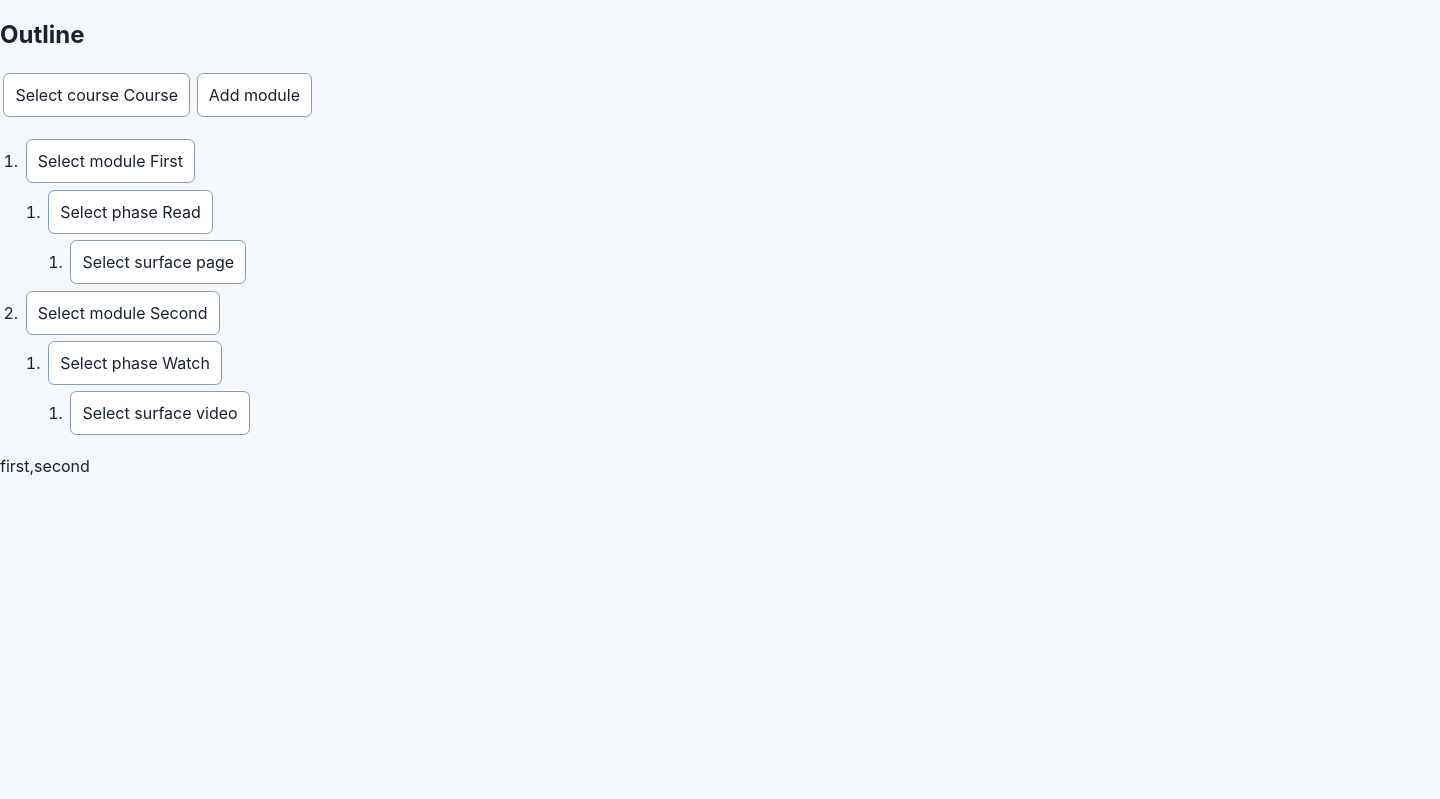
Test: Outline › opens a valid-start wizard that creates one module, phase, and surface locally
Click the button "Add module".
click(254, 95)  # box [197,73,312,117]
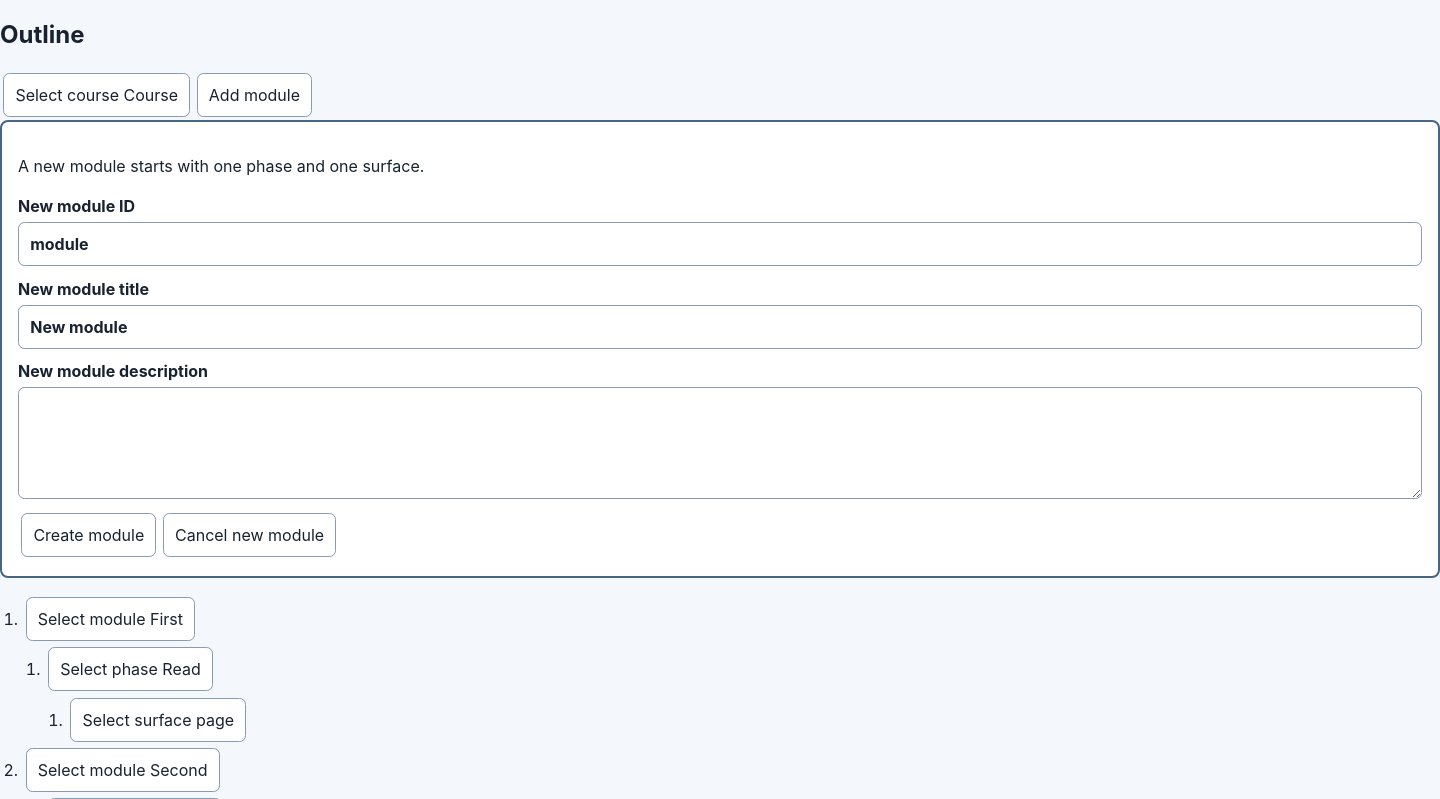
Check: the dialog "new module" is shown, box [0,120,1439,578]
Replace the text in the field labelled "New module ID" with "third" at (720, 244), box [18,222,1422,266]
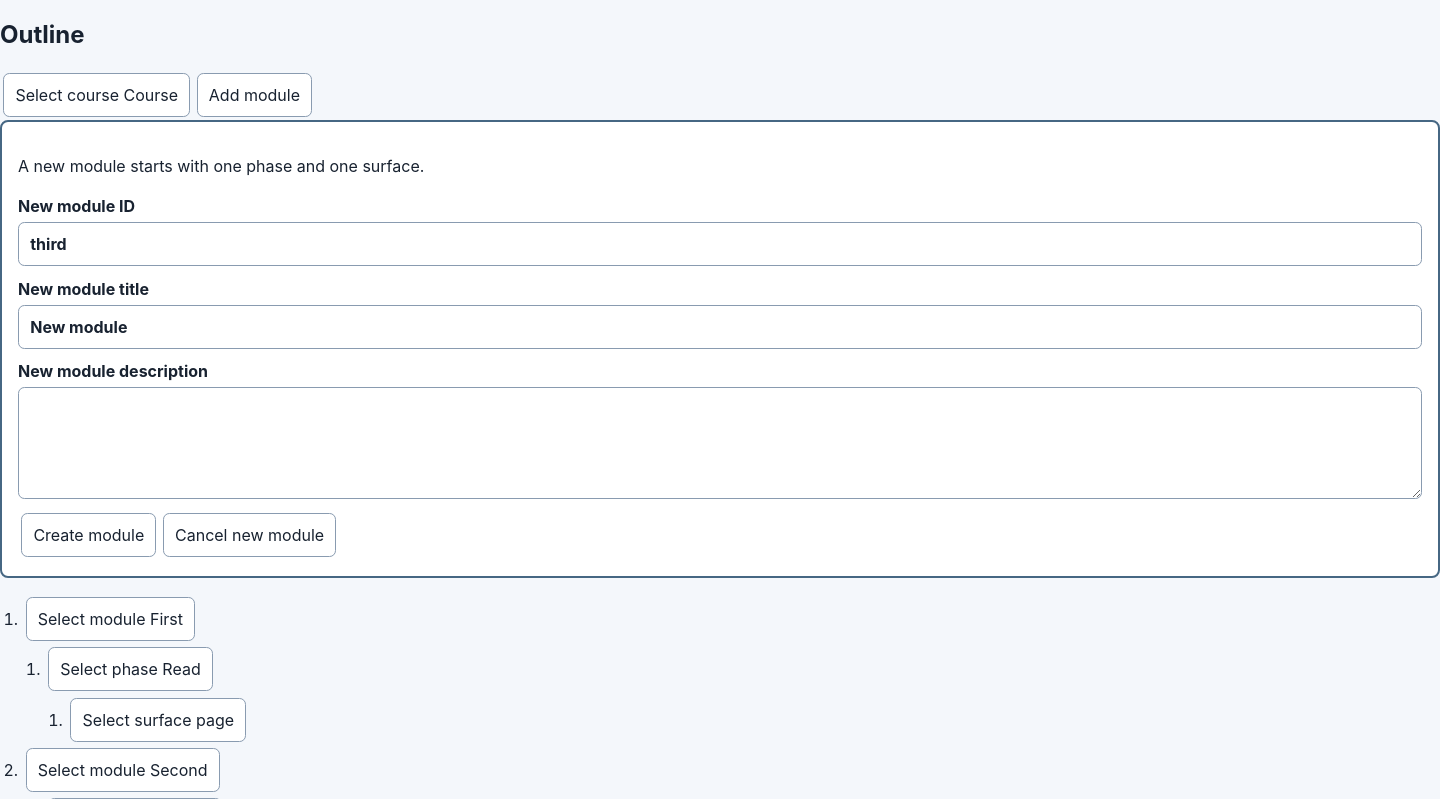
Replace the text in the field labelled "New module title" with "Third" at (720, 327), box [18,305,1422,349]
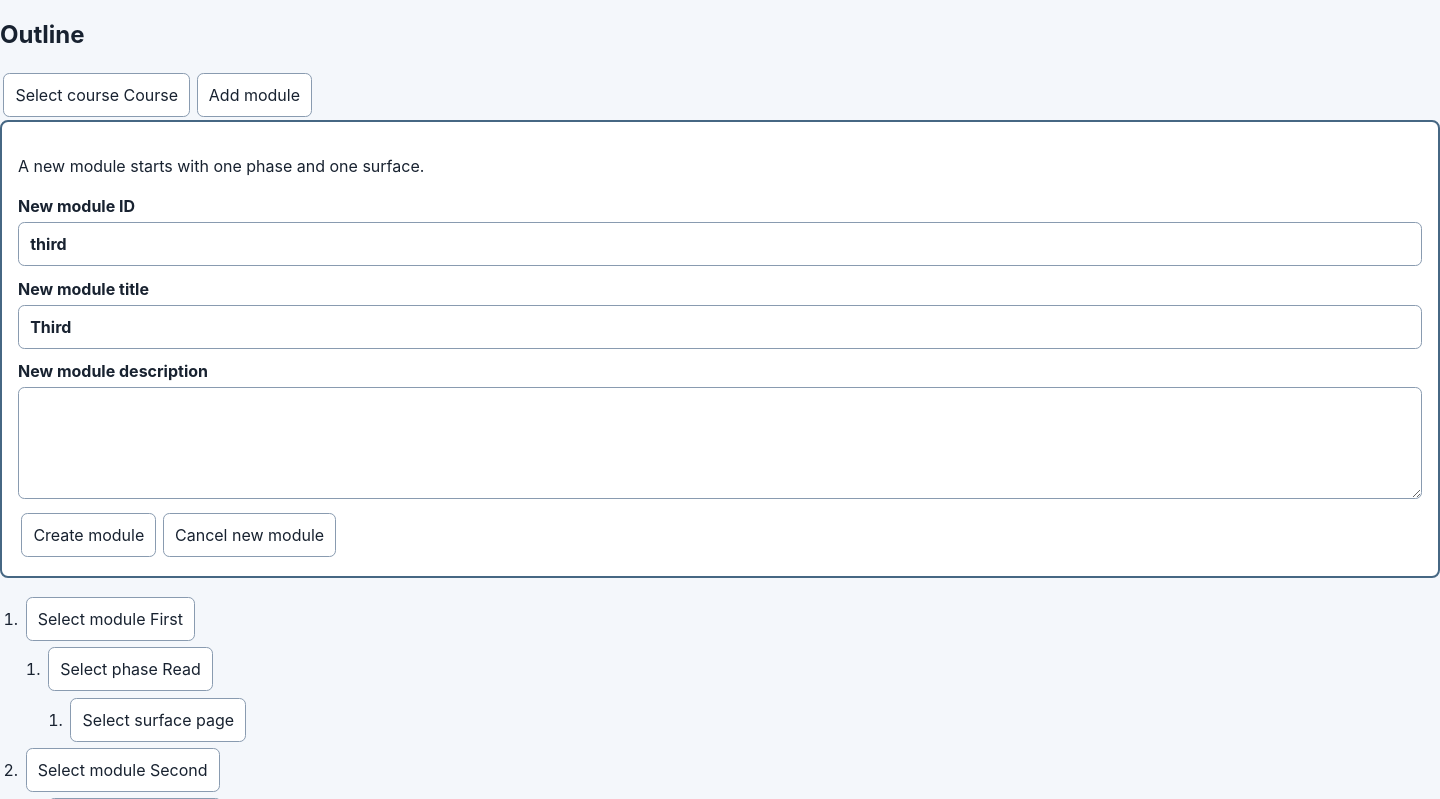
Click the button "Create module".
click(89, 534)  # box [21,512,156,556]
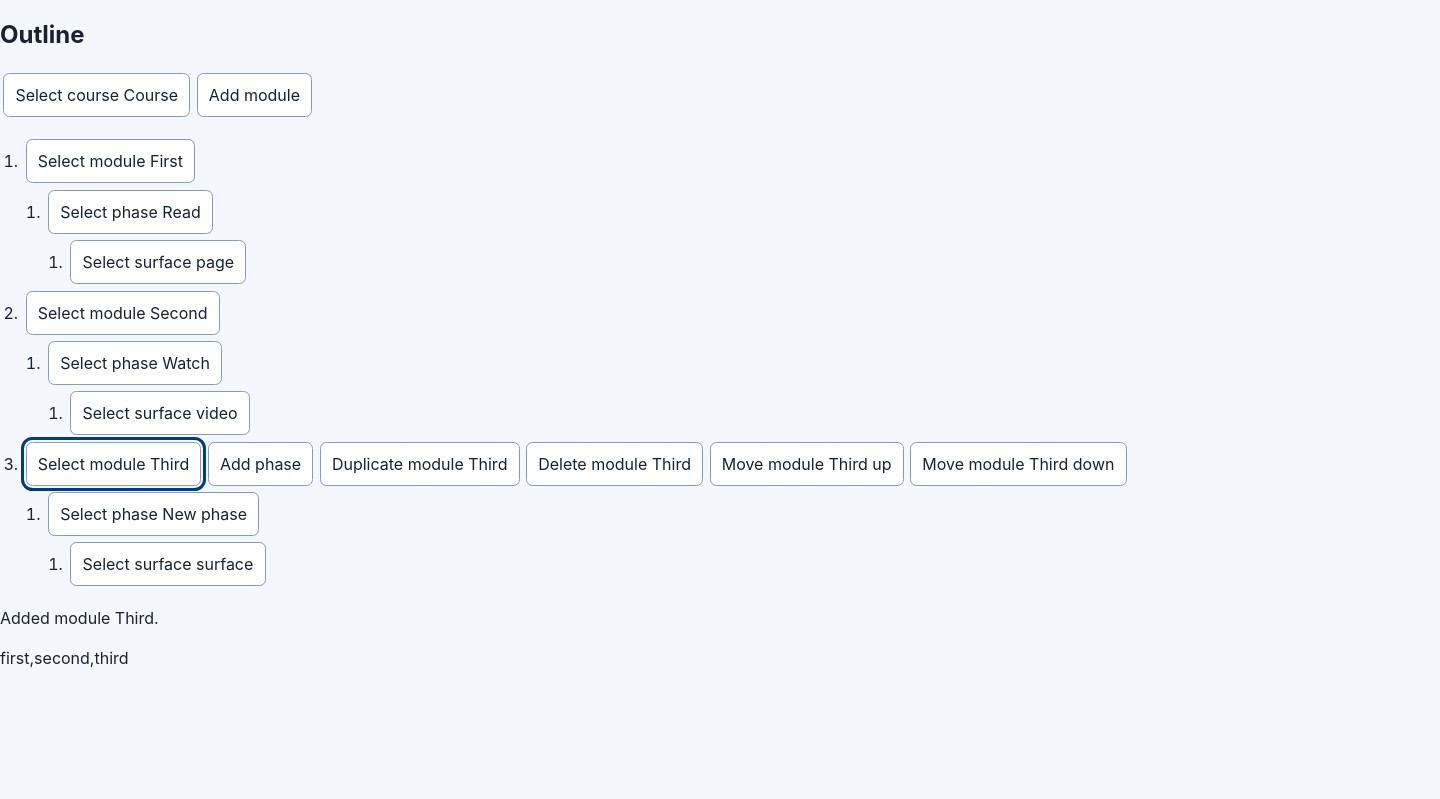
Check: the text "first,second,third" is shown, box [0,648,129,668]
Check: the button "Select module Third" is shown, box [26,442,201,486]
